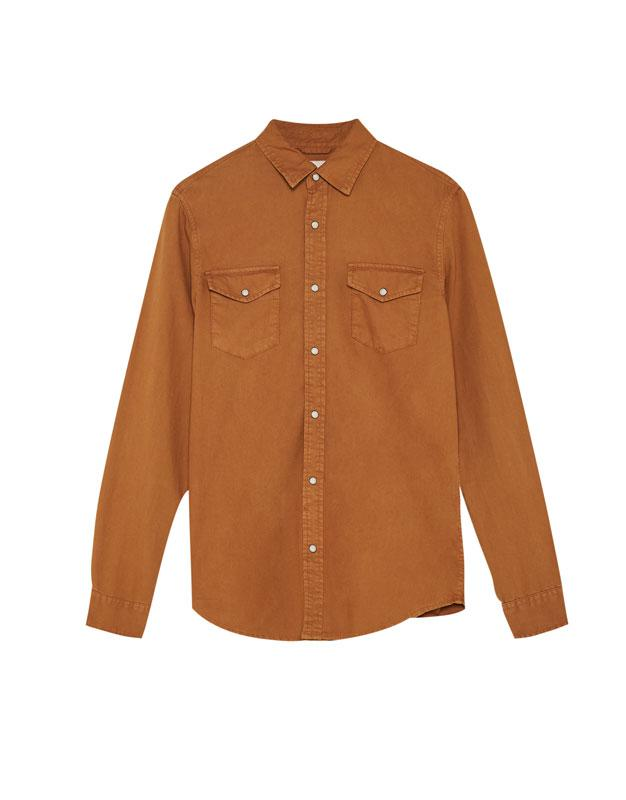teeshirt: (89, 117, 579, 666)
